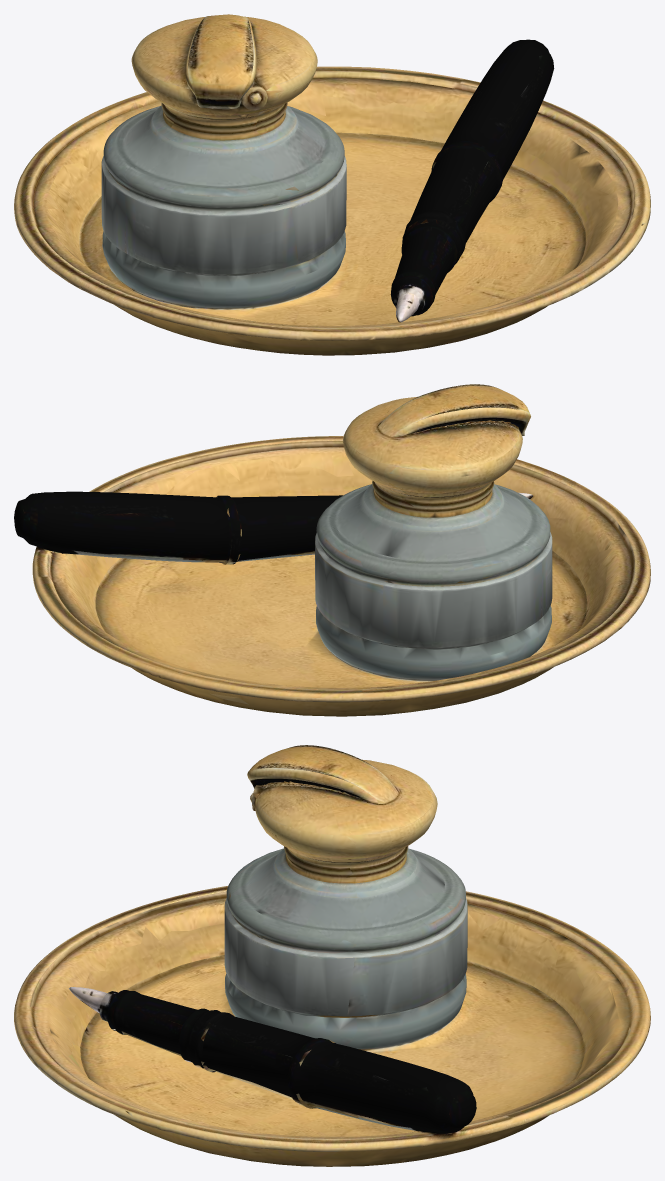
The model's file is desk_inkwell.glb.
3 renders of one model, top to bottom at view 1: azimuth 30°, elevation 25°; view 2: azimuth 150°, elevation 25°; view 3: azimuth 270°, elevation 25°, orthographic. The views are drawn at different scales.
Visible parts, largest first — view 1: desk_inkwell; view 2: desk_inkwell; view 3: desk_inkwell.
Boxes of the visible parts, x1,y1,x2,y2 form: desk_inkwell: (14,14,650,355); desk_inkwell: (14,384,650,716); desk_inkwell: (14,745,650,1166).
Bounding box in the file's own units: 0.13 × 0.0561 × 0.13.
1 material, 1 textured.
